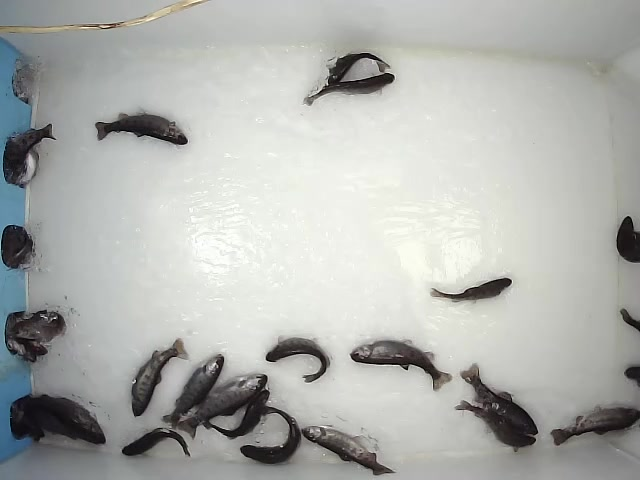fish: (458, 359, 539, 437), (177, 372, 268, 441), (348, 337, 454, 393), (301, 424, 398, 477), (129, 337, 191, 418), (161, 353, 225, 430), (454, 399, 537, 454), (548, 404, 640, 448), (240, 406, 302, 468), (204, 389, 271, 444), (94, 109, 190, 147), (302, 72, 397, 109), (264, 333, 331, 384), (328, 47, 392, 86), (121, 426, 192, 460), (428, 276, 514, 304)
